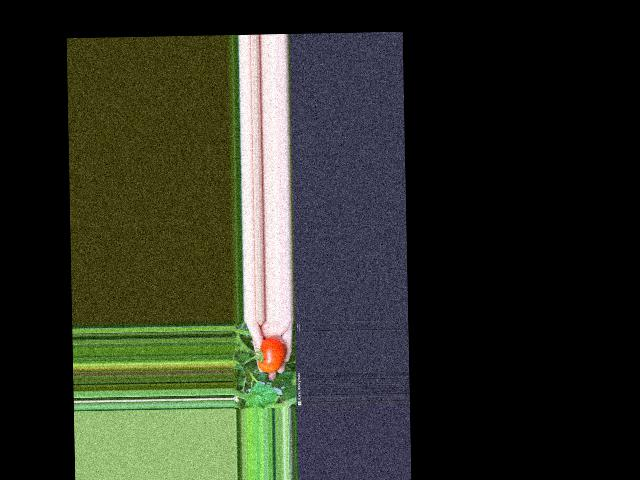tomato: (258, 336, 286, 372)
